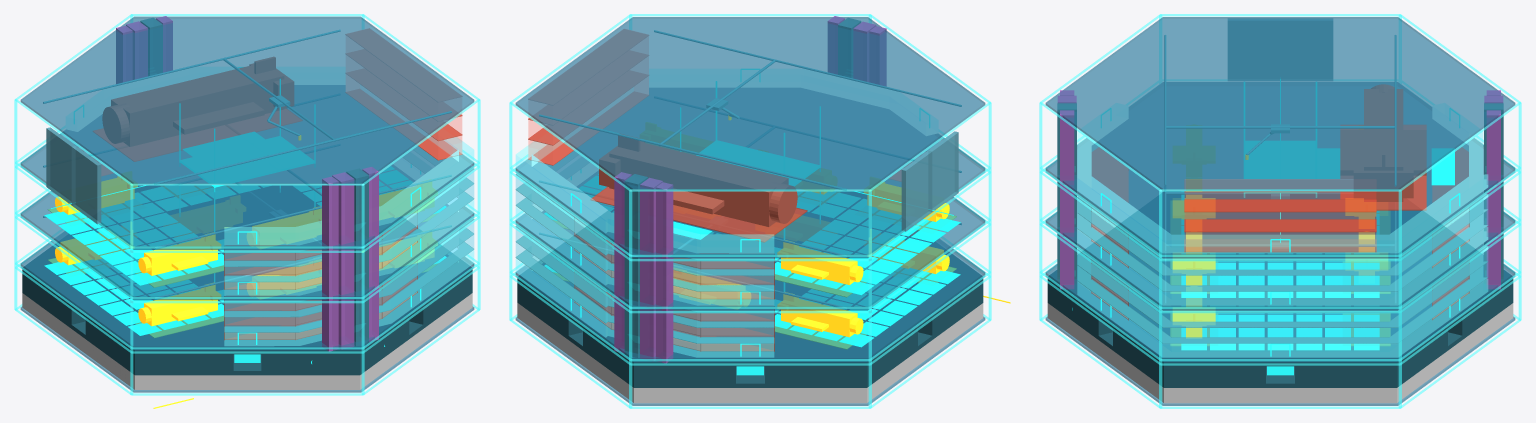
Rendered from hangar-pesado-1-1.glb.
3 views of the same model, side by side, from view 1: azimuth 30°, elevation 25°; view 2: azimuth 150°, elevation 25°; view 3: azimuth 270°, elevation 25° (orthographic). The views are drawn at different scales.
Parts seen in each view (by area): view 1: CUBIERTA_SUPERIOR, FORJADO_C3_C4, CUBIERTA_1_LOGISTICA_Bloque_Opaco, FORJADO_C2_C3, FORJADO_C1_C2, CUBIERTA_0_Bloque_Opaco, ARCTURUS_Fuselaje, C2_ALMACENES_SOBRE_PASILLO_Envolvente, C3_ALMACENES_SOBRE_PASILLO_Envolvente, C4_Pasillo_Perimetral_3x3, ASCENSOR_NAVES_Plataforma, NUCLEO_SUR_Ascensor_Principal_Montacargas (+60 smaller); view 2: CUBIERTA_SUPERIOR, FORJADO_C3_C4, CUBIERTA_1_LOGISTICA_Bloque_Opaco, FORJADO_C2_C3, FORJADO_C1_C2, CUBIERTA_0_Bloque_Opaco, ARCTURUS_Fuselaje, C2_ALMACENES_SOBRE_PASILLO_Envolvente, C3_ALMACENES_SOBRE_PASILLO_Envolvente, C4_Pasillo_Perimetral_3x3, NUCLEO_NORTE_Ascensor_Pequeno_A, NUCLEO_NORTE_Ascensor_Principal_Montacargas (+55 smaller); view 3: CUBIERTA_SUPERIOR, FORJADO_C3_C4, CUBIERTA_1_LOGISTICA_Bloque_Opaco, C2_ALMACENES_SOBRE_PASILLO_Envolvente, C3_ALMACENES_SOBRE_PASILLO_Envolvente, C4_Pasillo_Perimetral_3x3, PESADO_CONTROL_ESTE_Envolvente, FORJADO_C2_C3, FORJADO_C1_C2, CUBIERTA_0_Bloque_Opaco, C2_Pasillo_Perimetral_3x3, C3_Pasillo_Perimetral_3x3 (+42 smaller).
Part boxes in pixels (<box>): CUBIERTA_SUPERIOR: <box>20,16,474,184</box>; FORJADO_C3_C4: <box>20,85,474,249</box>; CUBIERTA_1_LOGISTICA_Bloque_Opaco: <box>22,217,472,375</box>; FORJADO_C2_C3: <box>20,165,474,300</box>; FORJADO_C1_C2: <box>20,229,474,350</box>; CUBIERTA_0_Bloque_Opaco: <box>22,293,472,389</box>; ARCTURUS_Fuselaje: <box>111,65,283,146</box>; C2_ALMACENES_SOBRE_PASILLO_Envolvente: <box>224,221,473,332</box>; C3_ALMACENES_SOBRE_PASILLO_Envolvente: <box>224,169,473,281</box>; C4_Pasillo_Perimetral_3x3: <box>224,137,473,244</box>; ASCENSOR_NAVES_Plataforma: <box>180,136,313,187</box>; NUCLEO_SUR_Ascensor_Principal_Montacargas: <box>332,172,354,349</box>; CUBIERTA_SUPERIOR: <box>515,17,985,190</box>; FORJADO_C3_C4: <box>515,88,985,258</box>; CUBIERTA_1_LOGISTICA_Bloque_Opaco: <box>517,211,983,387</box>; FORJADO_C2_C3: <box>515,171,985,310</box>; FORJADO_C1_C2: <box>515,235,985,362</box>; CUBIERTA_0_Bloque_Opaco: <box>517,303,983,403</box>; ARCTURUS_Fuselaje: <box>609,142,788,226</box>; C2_ALMACENES_SOBRE_PASILLO_Envolvente: <box>516,227,773,343</box>; C3_ALMACENES_SOBRE_PASILLO_Envolvente: <box>516,174,773,291</box>; C4_Pasillo_Perimetral_3x3: <box>516,141,773,253</box>; NUCLEO_NORTE_Ascensor_Pequeno_A: <box>656,182,673,363</box>; NUCLEO_NORTE_Ascensor_Principal_Montacargas: <box>640,178,662,361</box>; CUBIERTA_SUPERIOR: <box>1045,17,1515,190</box>; FORJADO_C3_C4: <box>1045,82,1515,258</box>; CUBIERTA_1_LOGISTICA_Bloque_Opaco: <box>1047,195,1513,387</box>; C2_ALMACENES_SOBRE_PASILLO_Envolvente: <box>1077,246,1487,343</box>; C3_ALMACENES_SOBRE_PASILLO_Envolvente: <box>1077,194,1487,291</box>; C4_Pasillo_Perimetral_3x3: <box>1077,130,1487,252</box>; PESADO_CONTROL_ESTE_Envolvente: <box>1185,192,1375,250</box>; FORJADO_C2_C3: <box>1045,169,1515,310</box>; FORJADO_C1_C2: <box>1045,253,1515,362</box>; CUBIERTA_0_Bloque_Opaco: <box>1047,303,1513,403</box>; C2_Pasillo_Perimetral_3x3: <box>1077,279,1487,357</box>; C3_Pasillo_Perimetral_3x3: <box>1077,227,1487,305</box>.
Size of the model in its own units: 92.62 by 50.48 by 101.
